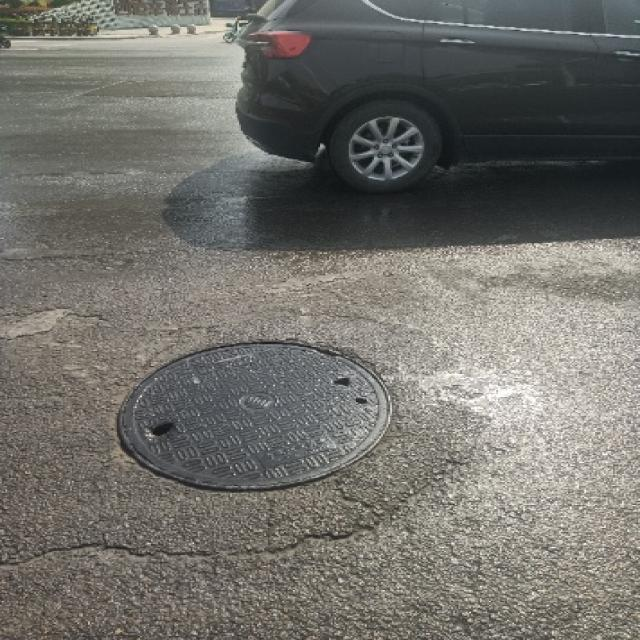Good: (117, 334, 401, 498)
